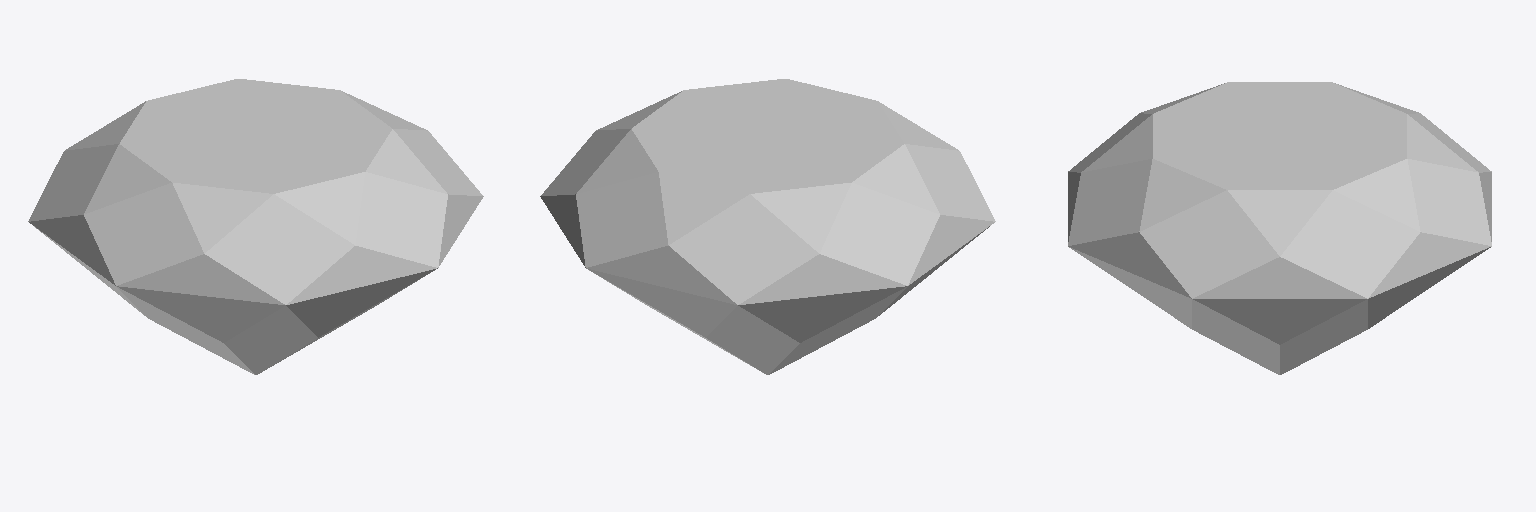
Rendered from gem.obj.
The picture shows the model from 3 angles: view 1: azimuth 30°, elevation 25°; view 2: azimuth 150°, elevation 25°; view 3: azimuth 270°, elevation 25°; orthographic projection.
Visible parts, largest first — view 1: Gem; view 2: Gem; view 3: Gem.
Boxes of the visible parts, x1=… form: Gem: x1=28, y1=79, x2=483, y2=374; Gem: x1=540, y1=79, x2=995, y2=374; Gem: x1=1068, y1=82, x2=1491, y2=374.
Size of the model in its own units: 0.921 by 0.5732 by 0.921.